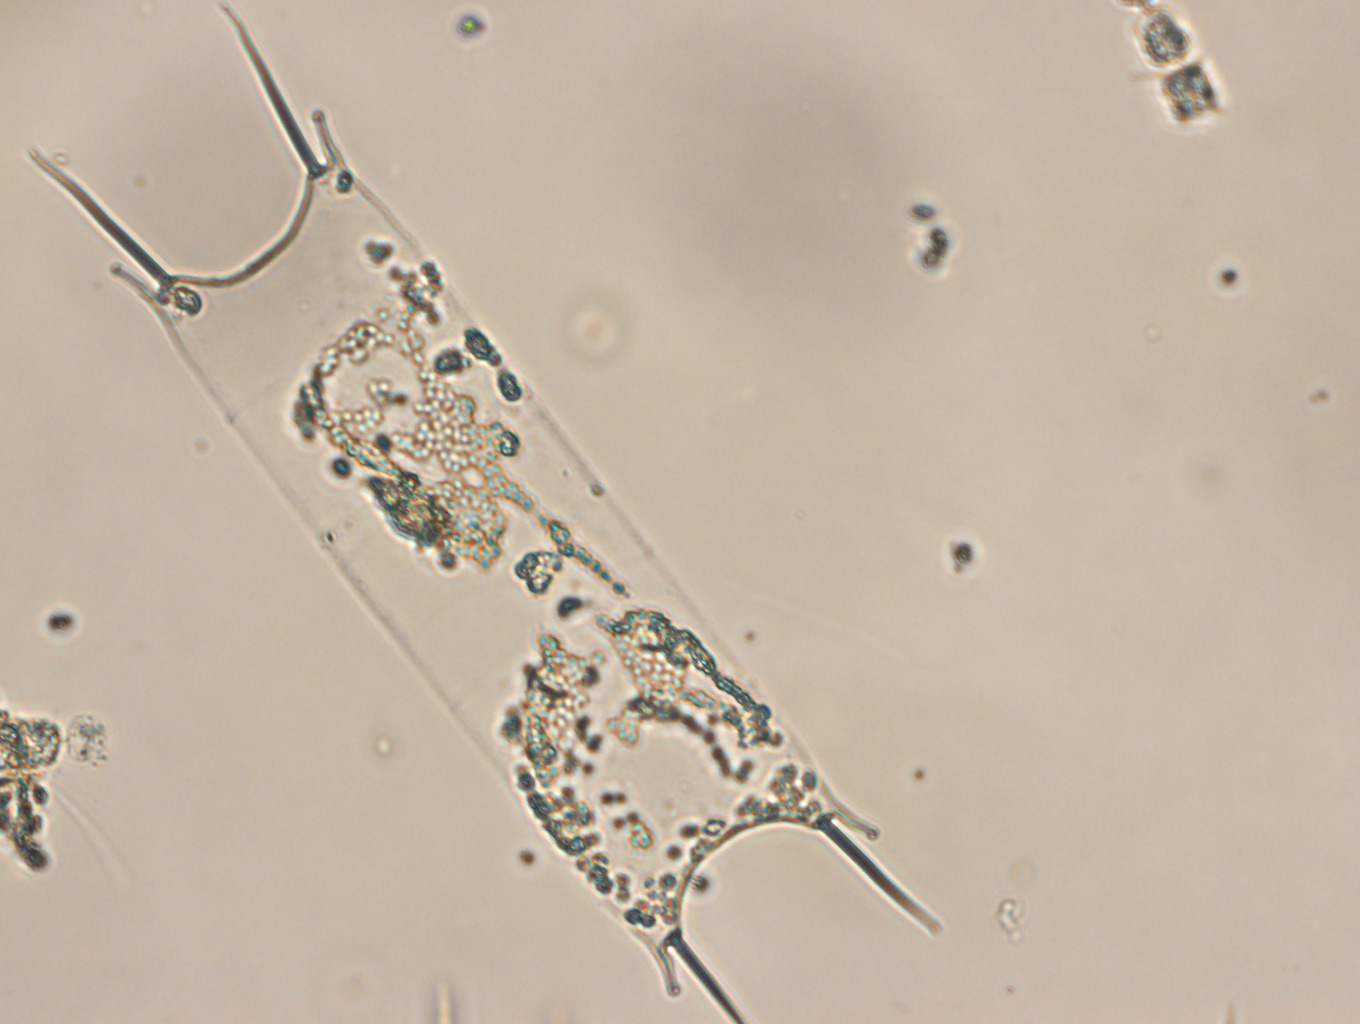biddulphia: (25, 1, 946, 1021)
